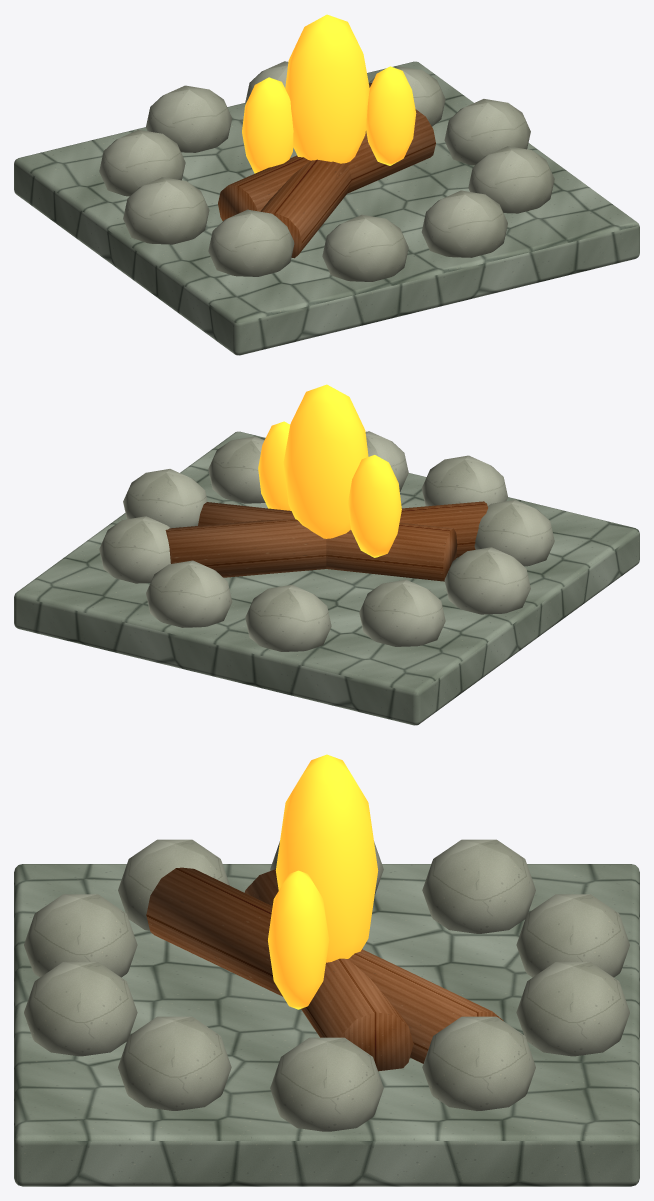
File: hearth.glb
3 views of the same model, one above another, from view 1: azimuth 30°, elevation 25°; view 2: azimuth 150°, elevation 25°; view 3: azimuth 270°, elevation 25° (orthographic). The views are drawn at different scales.
Visible parts, largest first — view 1: Fire hearth, Static flame, Fire log.001, Hearth stone.007, Hearth stone.008, Hearth stone.005, Hearth stone.006, Fire log, Hearth stone.009, Hearth stone.003, Hearth stone.004, Hearth stone (+4 smaller); view 2: Fire hearth, Fire log, Static flame, Fire log.001, Hearth stone.003, Hearth stone.002, Hearth stone.004, Hearth stone.005, Static flame.001, Hearth stone.001, Hearth stone.006, Hearth stone (+4 smaller); view 3: Fire hearth, Fire log, Static flame, Hearth stone, Hearth stone.001, Hearth stone.009, Hearth stone.004, Hearth stone.002, Hearth stone.008, Fire log.001, Hearth stone.003, Hearth stone.007 (+2 smaller).
Part boxes in pixels (x1=…): Fire hearth: x1=14, y1=61, x2=639, y2=355; Static flame: x1=285, y1=14, x2=369, y2=163; Fire log.001: x1=218, y1=109, x2=435, y2=220; Hearth stone.007: x1=322, y1=214, x2=408, y2=281; Hearth stone.008: x1=421, y1=190, x2=507, y2=257; Hearth stone.005: x1=123, y1=177, x2=209, y2=244; Hearth stone.006: x1=208, y1=209, x2=294, y2=276; Fire log: x1=260, y1=83, x2=371, y2=258; Hearth stone.009: x1=468, y1=146, x2=554, y2=213; Hearth stone.003: x1=146, y1=85, x2=232, y2=152; Hearth stone.004: x1=99, y1=129, x2=185, y2=196; Hearth stone: x1=444, y1=99, x2=530, y2=165; Fire hearth: x1=14, y1=431, x2=639, y2=725; Fire log: x1=165, y1=501, x2=487, y2=577; Static flame: x1=283, y1=384, x2=368, y2=538; Fire log.001: x1=198, y1=502, x2=457, y2=581; Hearth stone.003: x1=245, y1=584, x2=331, y2=651; Hearth stone.002: x1=146, y1=560, x2=232, y2=627; Hearth stone.004: x1=359, y1=579, x2=445, y2=646; Hearth stone.005: x1=444, y1=547, x2=530, y2=614; Static flame.001: x1=348, y1=455, x2=401, y2=557; Hearth stone.001: x1=99, y1=516, x2=170, y2=583; Hearth stone.006: x1=474, y1=499, x2=554, y2=566; Hearth stone: x1=123, y1=469, x2=207, y2=528; Fire hearth: x1=14, y1=864, x2=639, y2=1186; Fire log: x1=146, y1=867, x2=503, y2=1063; Static flame: x1=275, y1=754, x2=378, y2=962; Hearth stone: x1=270, y1=1037, x2=383, y2=1131; Hearth stone.001: x1=422, y1=1016, x2=535, y2=1110; Hearth stone.009: x1=118, y1=1016, x2=231, y2=1110; Hearth stone.004: x1=422, y1=839, x2=535, y2=933; Hearth stone.002: x1=516, y1=962, x2=629, y2=1056; Hearth stone.008: x1=24, y1=962, x2=137, y2=1056; Fire log.001: x1=244, y1=869, x2=413, y2=1071; Hearth stone.003: x1=516, y1=894, x2=629, y2=977; Hearth stone.007: x1=24, y1=894, x2=137, y2=977.
Bounding box in the file's own units: 2.3 × 1.15 × 2.2.
Materials: 5 (4 with a texture image).
